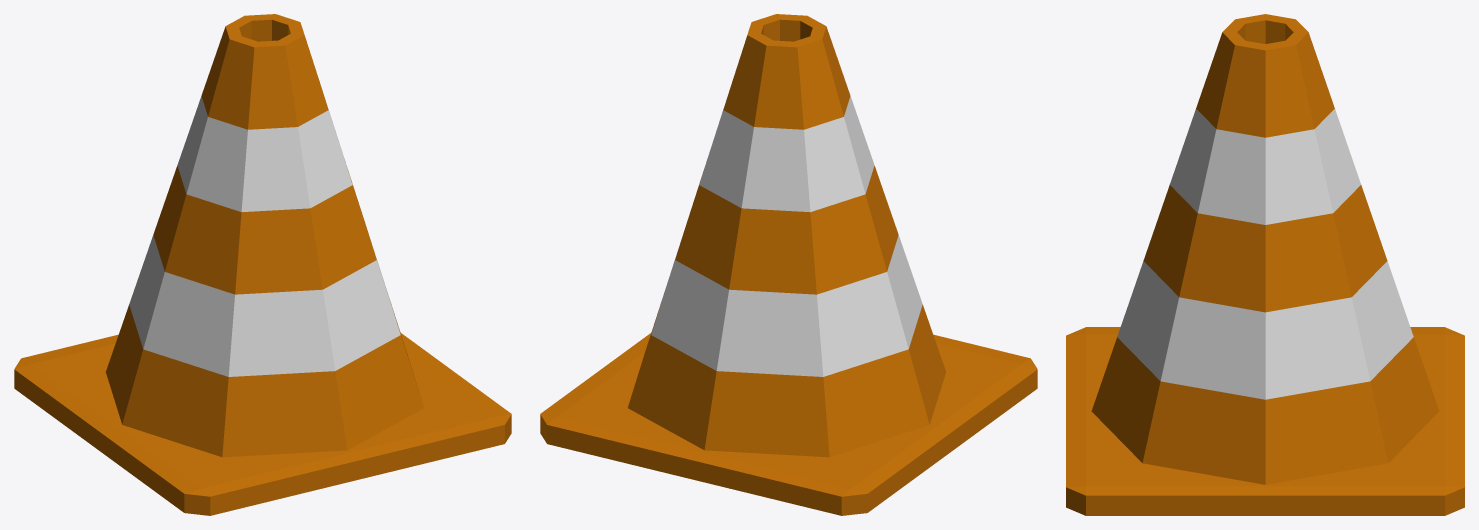
The model's file is Traffic_cone.fbx.
The picture shows the model from 3 angles, left to right: view 1: azimuth 30°, elevation 25°; view 2: azimuth 150°, elevation 25°; view 3: azimuth 270°, elevation 25°; orthographic projection. The views are drawn at different scales.
Parts seen in each view (by area): view 1: Cube.004; view 2: Cube.004; view 3: Cube.004.
Boxes of the visible parts, left/top/right/bottom form: Cube.004: left=14, top=14, right=511, bottom=515; Cube.004: left=540, top=14, right=1037, bottom=515; Cube.004: left=1066, top=14, right=1464, bottom=515.
Size of the model in its own units: 123 by 136 by 123.
